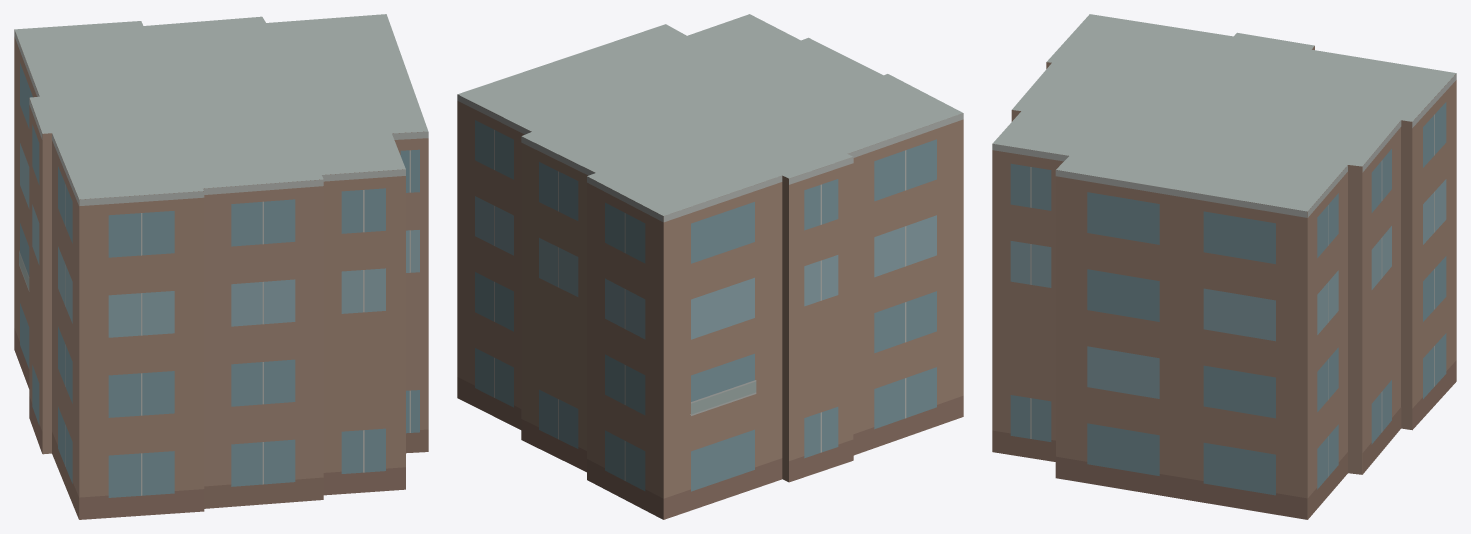
The model's file is survey-upis-32539580.glb.
The picture shows the model from 3 angles, left to right: view 1: azimuth 30°, elevation 25°; view 2: azimuth 150°, elevation 25°; view 3: azimuth 270°, elevation 25°; orthographic projection. The views are drawn at different scales.
Visible parts, largest first — view 1: survey-upis-32539580.tmp; view 2: survey-upis-32539580.tmp; view 3: survey-upis-32539580.tmp.
Part boxes in pixels (x1,y1,x2,y2): survey-upis-32539580.tmp: (14, 14, 428, 519); survey-upis-32539580.tmp: (457, 14, 963, 519); survey-upis-32539580.tmp: (992, 14, 1456, 519).
Size of the model in its own units: 16.08 by 11.7 by 15.97.
